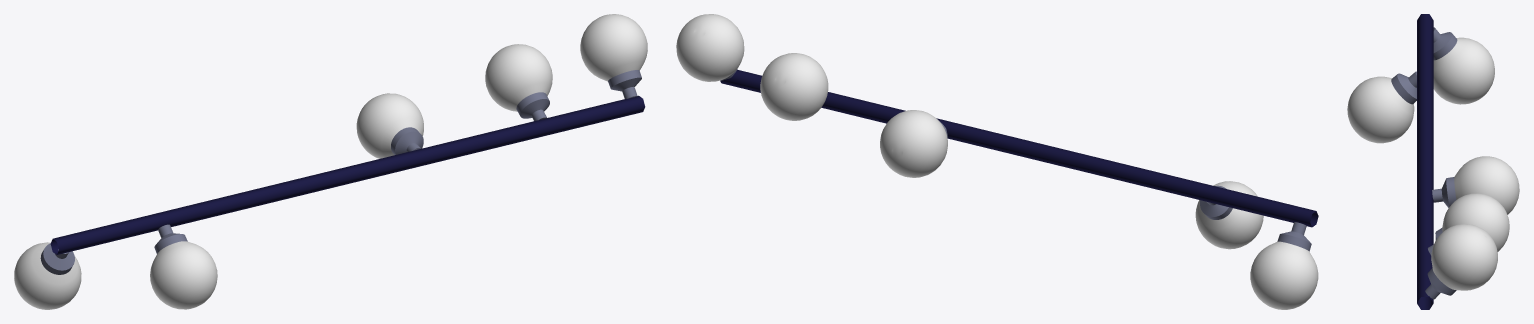
Rendered from Guirlande droite v2.fbx.
3 views of the same model, side by side, from view 1: azimuth 30°, elevation 25°; view 2: azimuth 150°, elevation 25°; view 3: azimuth 270°, elevation 25° (orthographic).
Visible parts, largest first — view 1: BézierCurve; view 2: BézierCurve; view 3: BézierCurve.
Boxes of the visible parts, box(x1,y1,x2,y2) form: BézierCurve: box(14, 14, 647, 309); BézierCurve: box(676, 14, 1318, 309); BézierCurve: box(1347, 14, 1519, 309).
Bounding box in the file's own units: 51.47 × 214 × 48.88.
